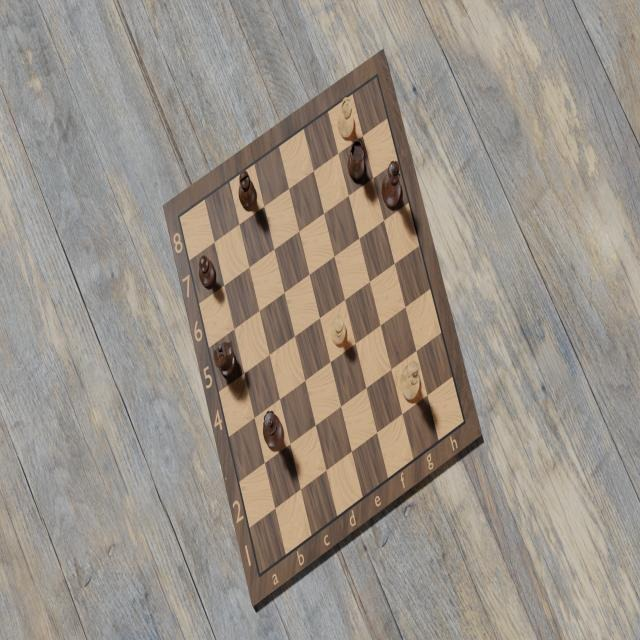black-bishop: (238, 169, 257, 209)
black-king: (381, 159, 403, 212)
black-knight: (213, 340, 237, 379)
black-pawn: (198, 255, 217, 289)
black-queen: (261, 409, 284, 451)
black-rook: (347, 139, 365, 183)
white-bishop: (337, 95, 355, 140)
white-king: (399, 360, 421, 404)
white-pawn: (329, 314, 346, 346)
